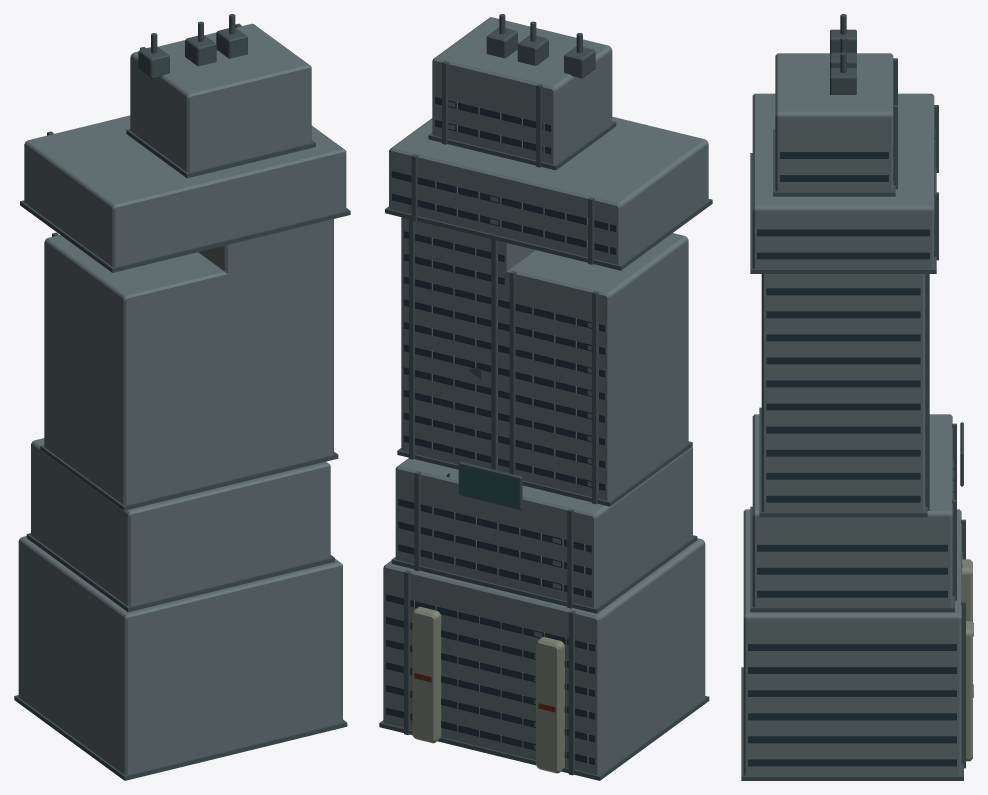
File: megablock_twin.obj
3 renders of one model, left to right at view 1: azimuth 30°, elevation 25°; view 2: azimuth 150°, elevation 25°; view 3: azimuth 270°, elevation 25°, orthographic.
Parts seen in each view (by area): view 1: structural_mass, tier_lip, rooftop_equipment; view 2: structural_mass, recessed_front, vertical_service_spines, tier_lip, podium_buttress, rooftop_equipment, window_separators, runtime_billboard, facade_billboard, pale_window; view 3: structural_mass, recessed_side, tier_lip, vertical_service_spines, podium_buttress, rooftop_equipment, recessed_front.
Part boxes in pixels (x1,y1,x2,y2): structural_mass: [18, 23, 346, 774]; tier_lip: [14, 129, 350, 780]; rooftop_equipment: [138, 27, 247, 78]; structural_mass: [383, 17, 708, 774]; recessed_front: [386, 97, 616, 764]; vertical_service_spines: [404, 61, 598, 775]; tier_lip: [379, 121, 712, 780]; podium_buttress: [412, 606, 564, 773]; rooftop_equipment: [486, 27, 595, 78]; window_separators: [414, 102, 609, 763]; runtime_billboard: [460, 465, 518, 507]; facade_billboard: [458, 461, 522, 510]; pale_window: [448, 101, 591, 749]; structural_mass: [743, 53, 961, 775]; recessed_side: [748, 152, 956, 766]; tier_lip: [741, 129, 963, 780]; vertical_service_spines: [893, 58, 965, 768]; podium_buttress: [962, 559, 972, 761]; rooftop_equipment: [830, 29, 856, 94]; recessed_front: [893, 99, 961, 763].
Bounding box in the file's own units: 30.5 × 84.45 × 25.58.
